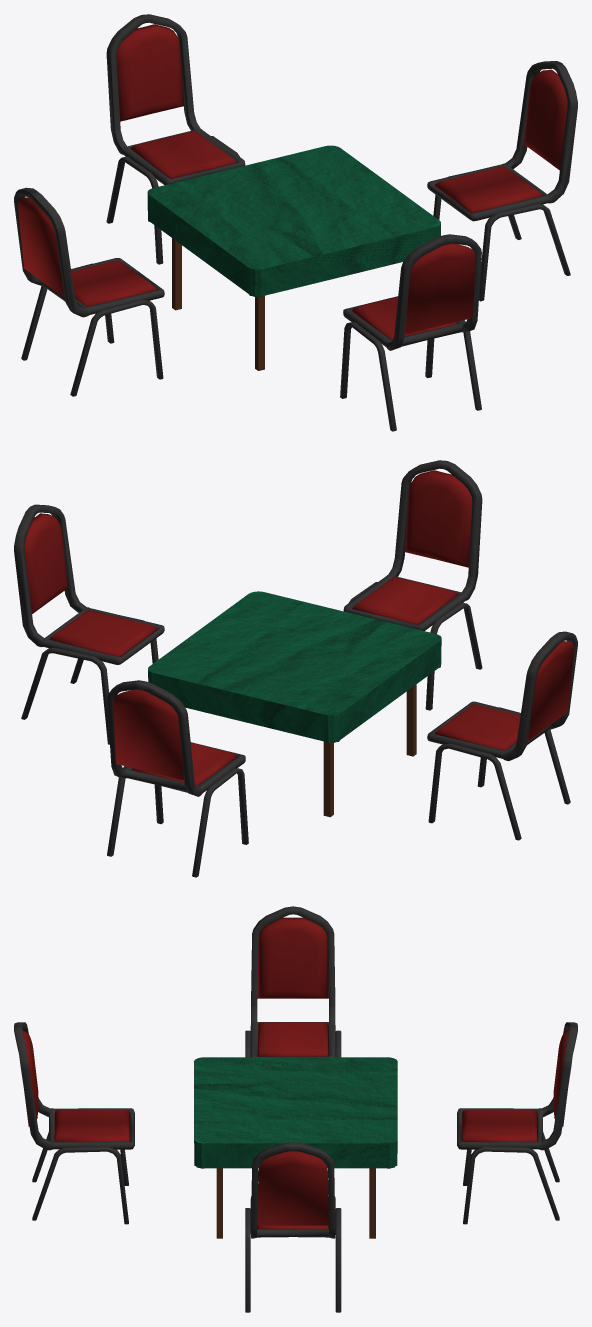
Rendered from TableAndChair.glb.
The picture shows the model from 3 angles, top to bottom: view 1: azimuth 30°, elevation 25°; view 2: azimuth 150°, elevation 25°; view 3: azimuth 270°, elevation 25°; orthographic projection. The views are drawn at different scales.
Visible parts, largest first — view 1: TableCloth, Chair_2, Chair_1, Chair_3, Chair_4, Table; view 2: TableCloth, Chair_1, Chair_2, Chair_3, Chair_4, Table; view 3: TableCloth, Chair_4, Chair_3, Chair_1, Chair_2, Table.
Boxes of the visible parts, left/top/right/bottom form: TableCloth: left=147, top=145, right=440, bottom=296; Chair_2: left=106, top=14, right=245, bottom=264; Chair_1: left=340, top=234, right=481, bottom=431; Chair_3: left=427, top=61, right=577, bottom=301; Chair_4: left=14, top=187, right=164, bottom=396; Table: left=172, top=238, right=264, bottom=370; TableCloth: left=148, top=591, right=441, bottom=742; Chair_1: left=343, top=460, right=482, bottom=710; Chair_2: left=107, top=680, right=248, bottom=877; Chair_3: left=14, top=504, right=164, bottom=744; Chair_4: left=427, top=631, right=577, bottom=840; Table: left=323, top=684, right=416, bottom=817; TableCloth: left=194, top=1057, right=397, bottom=1168; Chair_4: left=245, top=906, right=341, bottom=1057; Chair_3: left=245, top=1142, right=341, bottom=1312; Chair_1: left=14, top=1022, right=134, bottom=1224; Chair_2: left=457, top=1022, right=577, bottom=1224; Table: left=216, top=1168, right=375, bottom=1238.
Bounding box in the file's own units: 12.9 × 4.49 × 12.83.
Materials: 4 (1 with a texture image).
